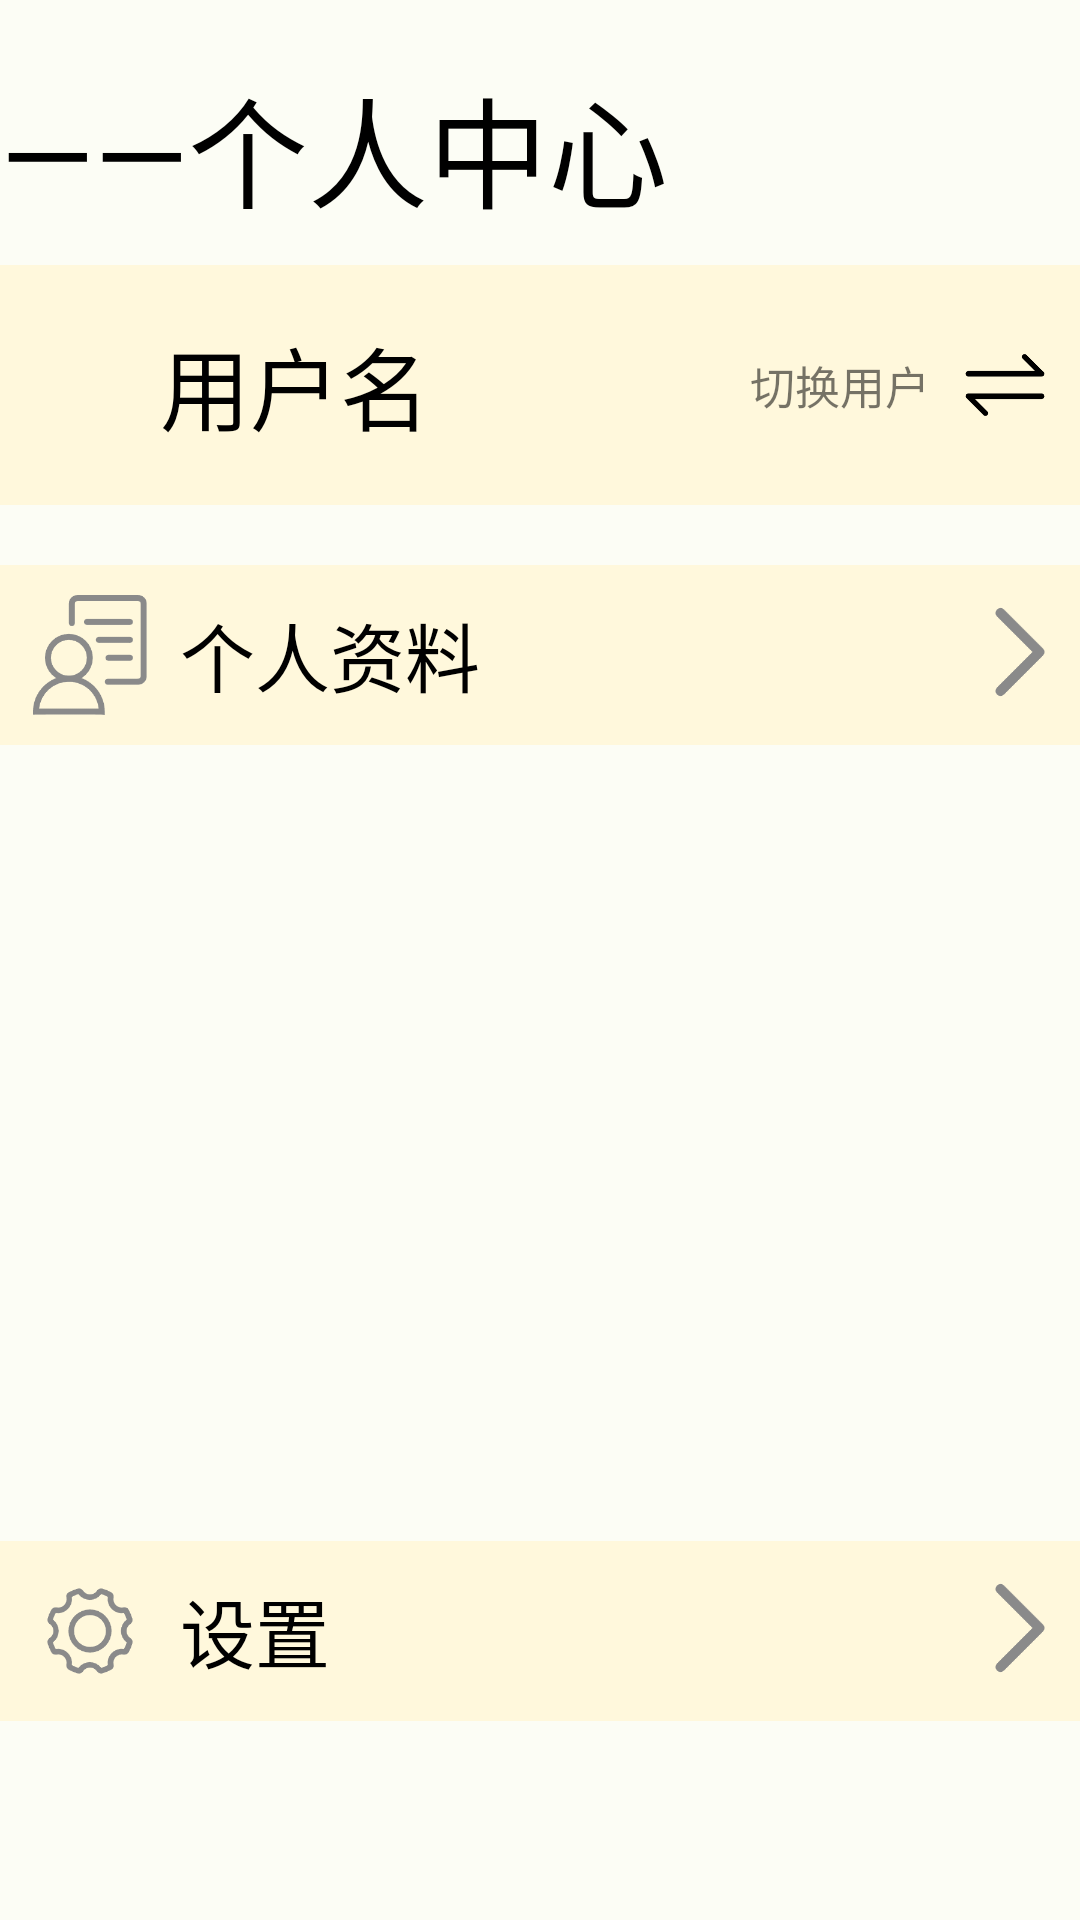

Icon click points for this 1080*1920 phone screenshot, format [x,y]:
person info: [90,655]
right: [1020,652], [1020,1628]
settings: [90,1631]
switch account: [1005,385]
